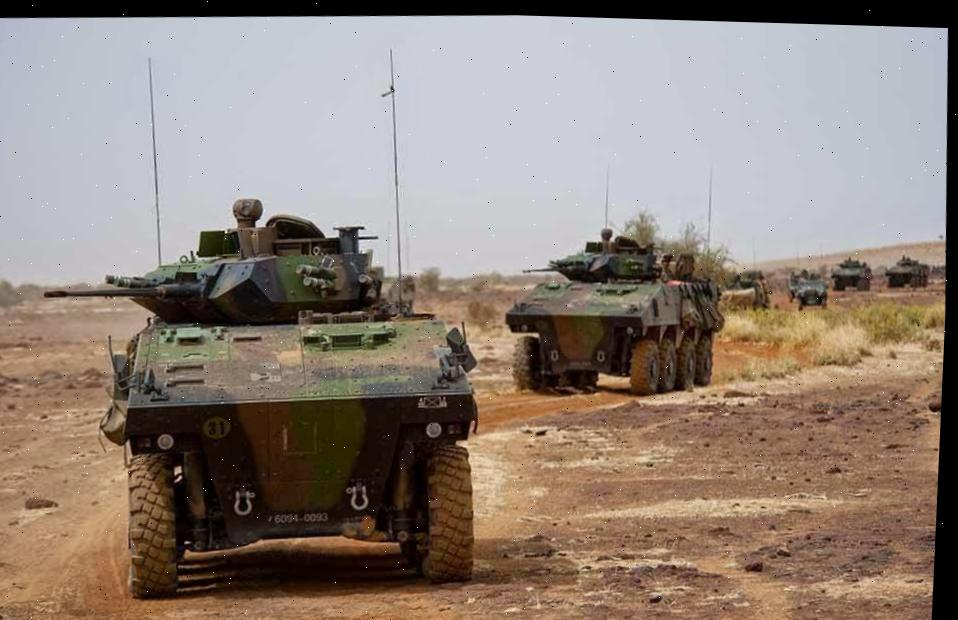armored_car: (794, 274, 828, 309)
tank: (24, 182, 495, 610), (497, 218, 731, 403), (828, 256, 874, 293), (882, 253, 929, 288)
